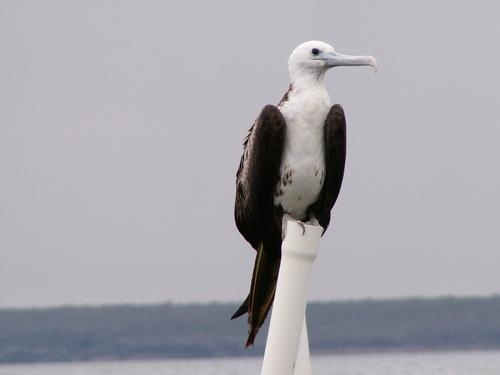bird: (227, 37, 384, 340)
